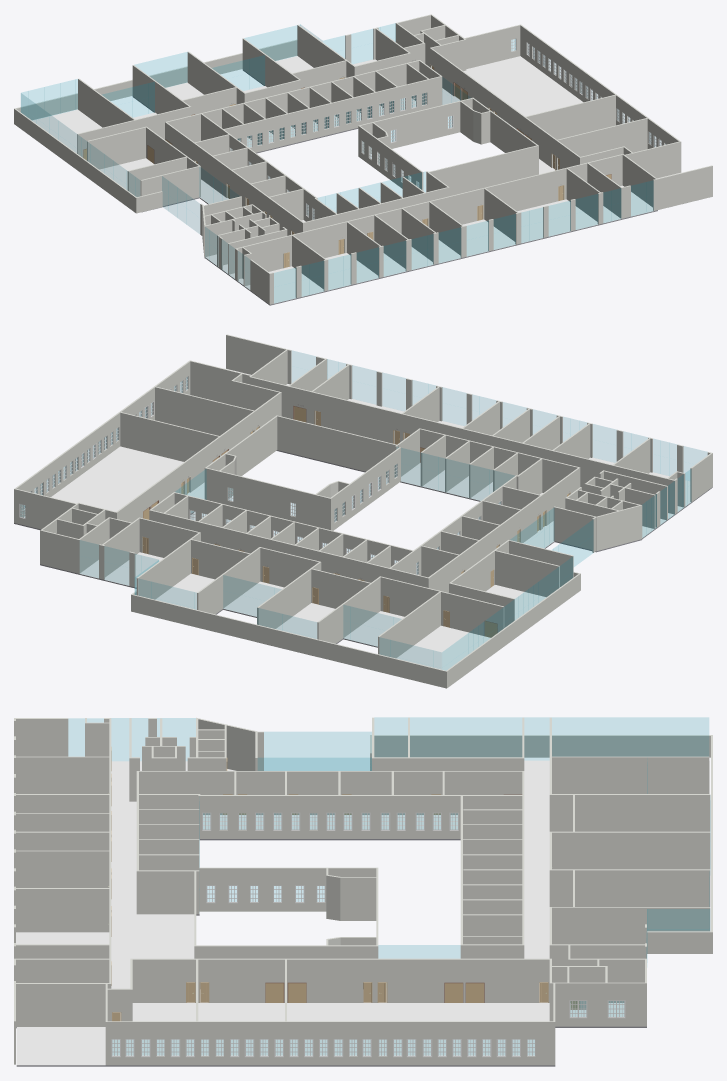
File: 2楼墙体.gltf
3 views of the same model, one above another, from view 1: azimuth 30°, elevation 25°; view 2: azimuth 150°, elevation 25°; view 3: azimuth 270°, elevation 25° (orthographic). The views are drawn at different scales.
Parts seen in each view (by area): view 1: 常规 140 - 20+120 [756093], 常规 - 200mm 2 [509249], 常规 - 200mm 2 [520997], 常规 - 200mm 2 [518119], 常规 - 200mm 2 [734166], 常规 - 200mm 2 [520522], 常规 - 200mm 2 [520660], 常规 - 200mm 2 [762891], 常规 - 200mm 2 [518856], 常规 - 200mm 2 [518592], 常规 - 200mm 2 [761052], 常规 - 200mm 2 [762623] (+42 smaller); view 2: 常规 140 - 20+120 [756093], 常规 - 200mm 2 [509249], 常规 - 200mm 2 [762891], 常规 - 200mm 2 [518592], 常规 - 200mm 2 [734166], 常规 - 200mm 2 [520660], 常规 - 200mm 2 [520522], 常规 - 200mm 2 [518119], 常规 - 200mm 2 [518856], 常规 - 200mm 2 [743040], 常规 - 200mm 2 [761052], 常规 - 200mm 2 [761095] (+51 smaller); view 3: 常规 140 - 20+120 [756093], 常规 - 200mm 2 [518119], 常规 - 200mm 2 [734166], 常规 - 200mm 2 [380813], 常规 - 200mm 2 [520522], 常规 - 200mm 2 [762623], 常规 - 200mm 2 [522650], 常规 - 200mm 2 [740289], 常规 - 200mm 2 [741482], 常规 - 200mm 2 [516513], 常规 - 200mm 2 [518989], 常规 - 200mm 2 [522239] (+39 smaller).
Boxes of the visible parts, left/top/right/bottom form: 常规 140 - 20+120 [756093]: left=32, top=56, right=681, bottom=305; 常规 - 200mm 2 [509249]: left=235, top=154, right=622, bottom=279; 常规 - 200mm 2 [520997]: left=223, top=76, right=442, bottom=152; 常规 - 200mm 2 [518119]: left=430, top=48, right=581, bottom=170; 常规 - 200mm 2 [734166]: left=520, top=24, right=679, bottom=148; 常规 - 200mm 2 [520522]: left=165, top=122, right=302, bottom=235; 常规 - 200mm 2 [520660]: left=166, top=60, right=420, bottom=142; 常规 - 200mm 2 [762891]: left=16, top=39, right=297, bottom=120; 常规 - 200mm 2 [518856]: left=429, top=145, right=537, bottom=195; 常规 - 200mm 2 [518592]: left=358, top=97, right=473, bottom=156; 常规 - 200mm 2 [761052]: left=526, top=95, right=615, bottom=139; 常规 - 200mm 2 [762623]: left=14, top=108, right=136, bottom=212; 常规 140 - 20+120 [756093]: left=14, top=368, right=712, bottom=670; 常规 - 200mm 2 [509249]: left=250, top=376, right=675, bottom=514; 常规 - 200mm 2 [762891]: left=132, top=594, right=445, bottom=687; 常规 - 200mm 2 [518592]: left=204, top=467, right=331, bottom=530; 常规 - 200mm 2 [734166]: left=14, top=361, right=190, bottom=522; 常规 - 200mm 2 [520660]: left=149, top=509, right=427, bottom=587; 常规 - 200mm 2 [520522]: left=427, top=468, right=579, bottom=592; 常规 - 200mm 2 [518119]: left=116, top=392, right=281, bottom=522; 常规 - 200mm 2 [518856]: left=277, top=415, right=396, bottom=477; 常规 - 200mm 2 [743040]: left=380, top=576, right=504, bottom=636; 常规 - 200mm 2 [761052]: left=120, top=412, right=219, bottom=461; 常规 - 200mm 2 [761095]: left=155, top=386, right=253, bottom=435; 常规 140 - 20+120 [756093]: left=16, top=760, right=709, bottom=1066; 常规 - 200mm 2 [518119]: left=130, top=958, right=549, bottom=1002; 常规 - 200mm 2 [734166]: left=107, top=1021, right=555, bottom=1065; 常规 - 200mm 2 [380813]: left=198, top=795, right=522, bottom=838; 常规 - 200mm 2 [520522]: left=139, top=771, right=524, bottom=814; 常规 - 200mm 2 [762623]: left=374, top=735, right=712, bottom=757; 常规 - 200mm 2 [522650]: left=549, top=831, right=710, bottom=869; 常规 - 200mm 2 [740289]: left=549, top=869, right=710, bottom=906; 常规 - 200mm 2 [741482]: left=549, top=794, right=710, bottom=831; 常规 - 200mm 2 [516513]: left=552, top=756, right=709, bottom=793; 常规 - 200mm 2 [518989]: left=199, top=867, right=376, bottom=911; 常规 - 200mm 2 [522239]: left=549, top=907, right=710, bottom=944.
Bounding box in the file's own units: 68.96 × 4.64 × 66.02.
